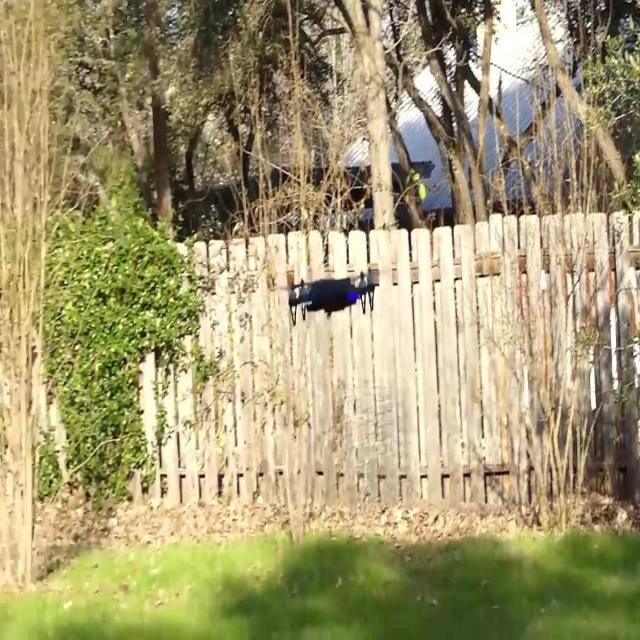drone: (288, 260, 381, 328)
